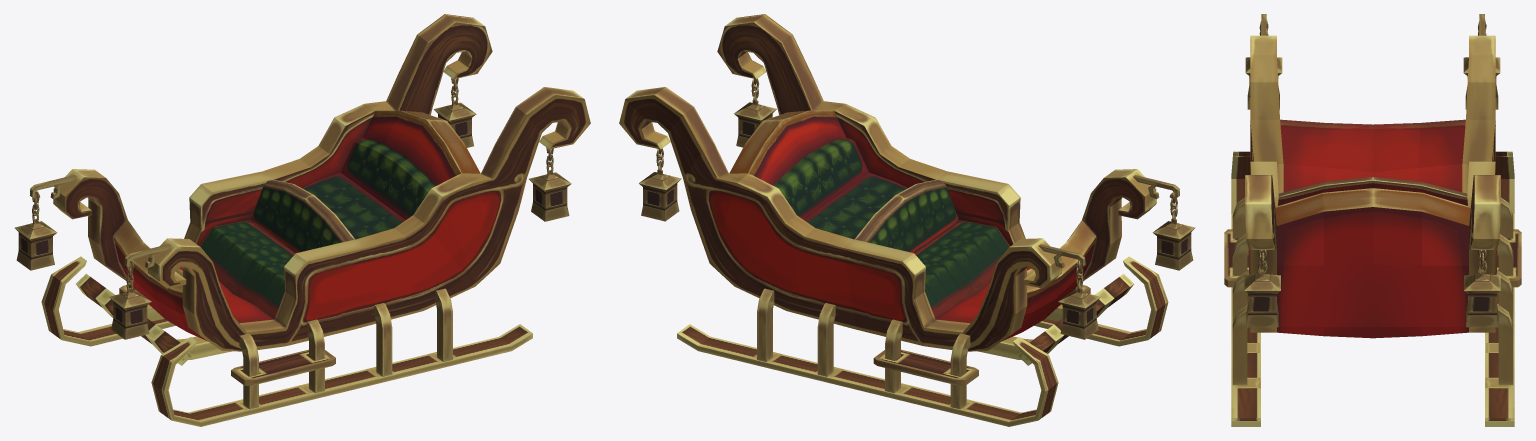
File: sled_study.glb
3 views of the same model, side by side, from view 1: azimuth 30°, elevation 25°; view 2: azimuth 150°, elevation 25°; view 3: azimuth 270°, elevation 25° (orthographic). The views are drawn at different scales.
Visible parts, largest first — view 1: Object_6, Object_7, Object_8, Object_2, Object_3; view 2: Object_6, Object_7, Object_8, Object_3, Object_2; view 3: Object_6, Object_3, Object_2, Object_7, Object_8.
Boxes of the visible parts, left/top/right/bottom form: Object_6: left=41, top=14, right=590, bottom=426; Object_7: left=109, top=260, right=151, bottom=339; Object_8: left=14, top=191, right=57, bottom=270; Object_2: left=529, top=147, right=571, bottom=221; Object_3: left=433, top=78, right=476, bottom=147; Object_6: left=619, top=14, right=1168, bottom=426; Object_7: left=1152, top=191, right=1195, bottom=270; Object_8: left=1058, top=260, right=1100, bottom=339; Object_3: left=639, top=148, right=681, bottom=221; Object_2: left=734, top=78, right=776, bottom=147; Object_6: left=1224, top=35, right=1521, bottom=426; Object_3: left=1464, top=250, right=1500, bottom=327; Object_2: left=1244, top=250, right=1280, bottom=327; Object_7: left=1245, top=20, right=1282, bottom=109; Object_8: left=1463, top=19, right=1500, bottom=109.
Size of the model in its own units: 93.42 by 45.8 by 44.6.
Materials: 7 (7 with a texture image).
